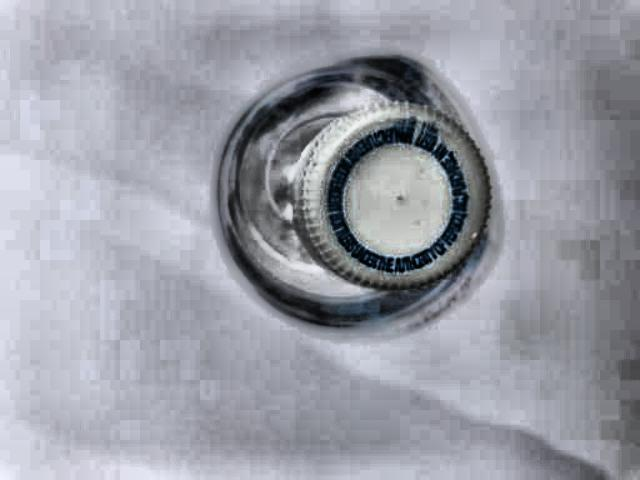Bottles: (210, 48, 501, 328)
